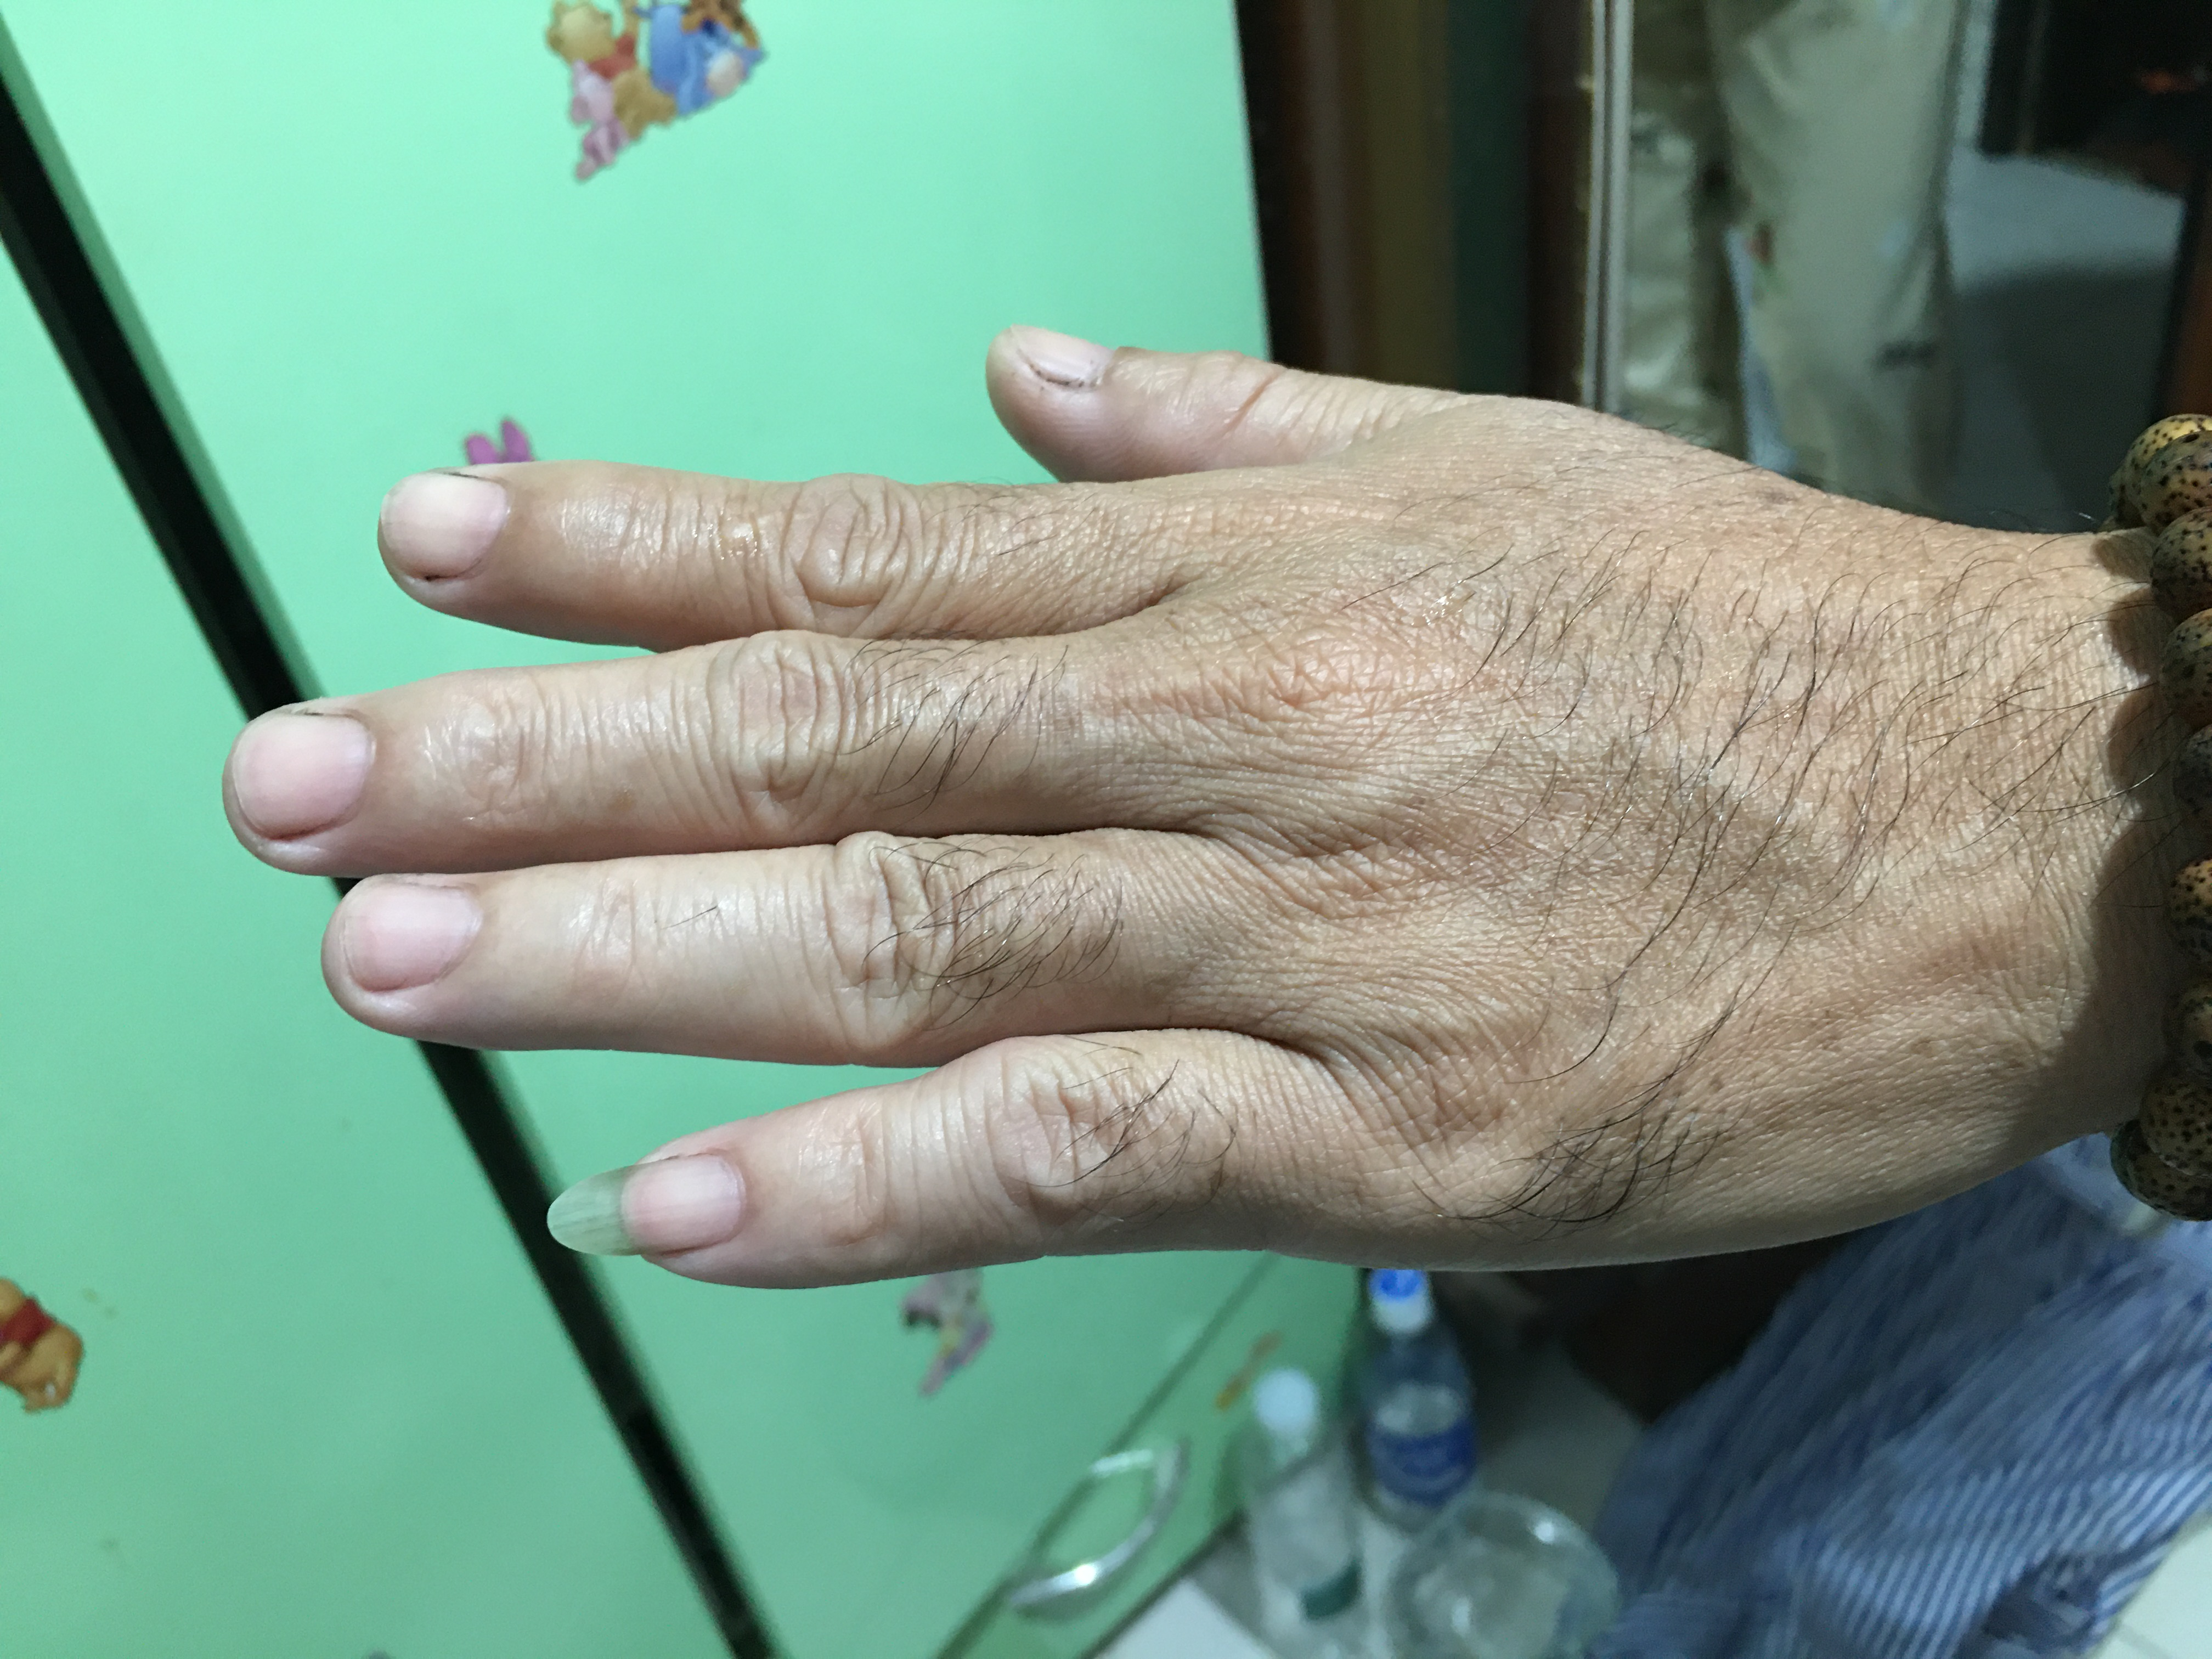nails: (540, 1145, 765, 1265), (327, 859, 498, 1006), (225, 697, 383, 854), (368, 448, 516, 589), (995, 303, 1129, 416)
